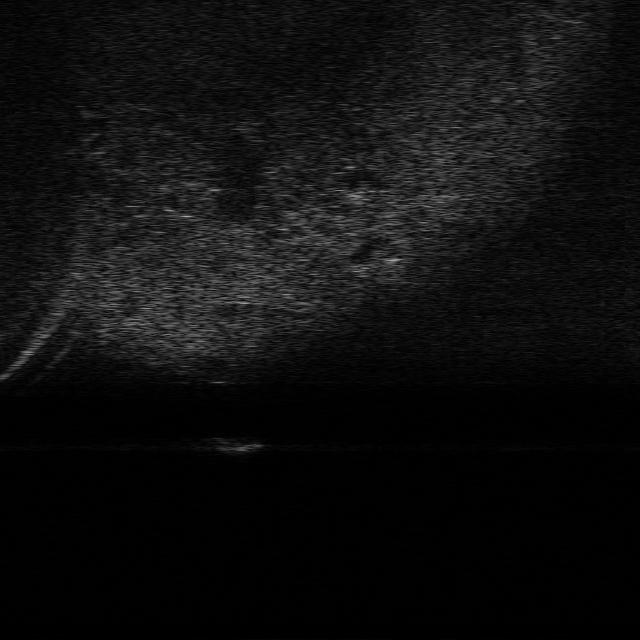cube: (210, 430, 262, 456)
